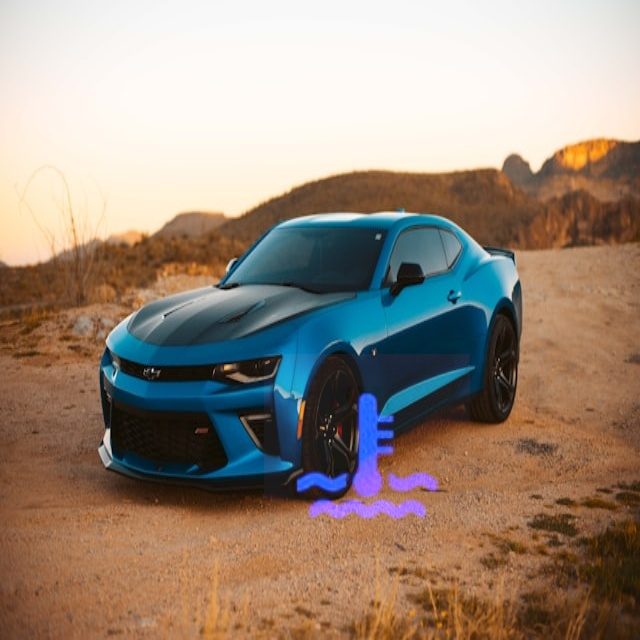symbol: (264, 354, 470, 560)
